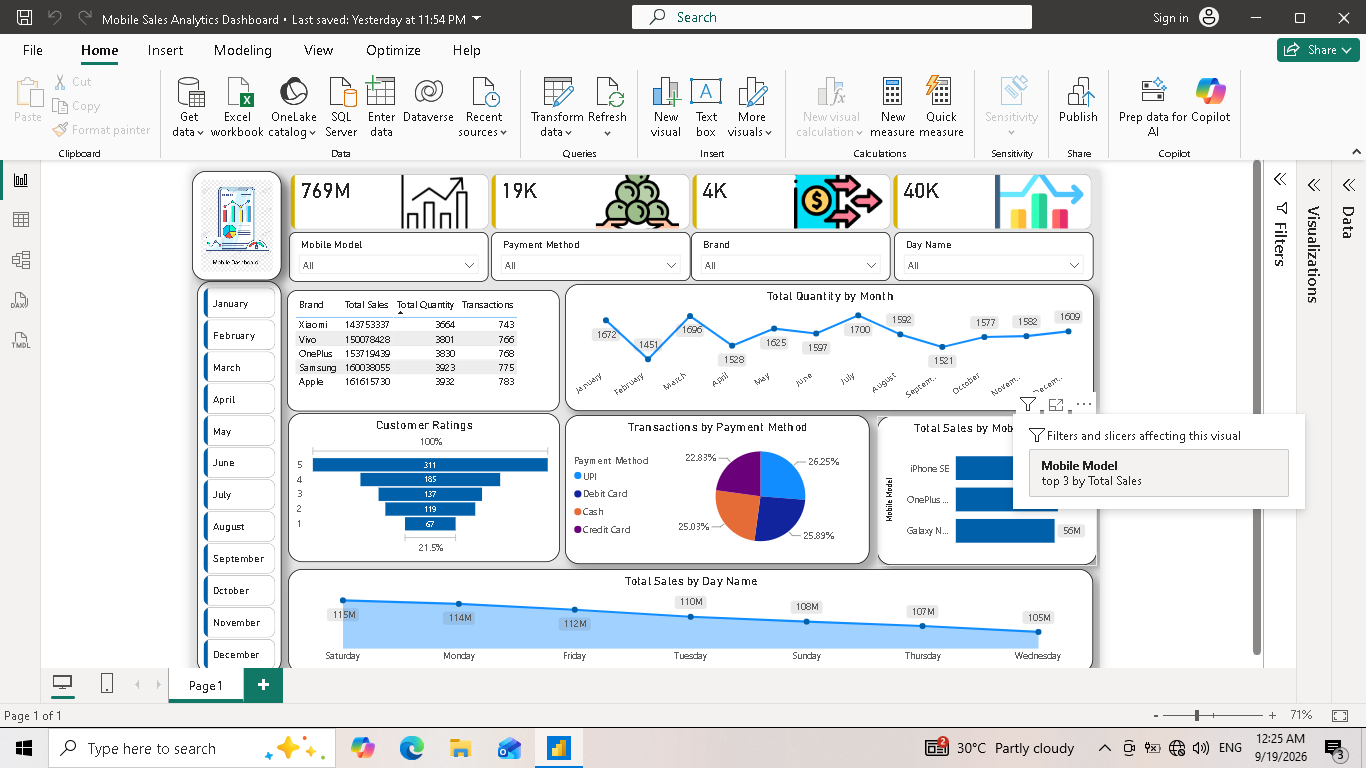

The dashboard page shown, as its layout file describes it:
{"tool":"powerbi","page":{"name":"Page 1","canvas":[1280,720],"ordinal":0},"visuals":[{"type":"shape","box":[5.7,7.1,120.5,138.9],"z":1000},{"type":"shape","box":[6.9,156.4,119.4,554.4],"z":2000},{"type":"advancedSlicerVisual","fields":{"Values":["Sales_Data.Date.Variation.Date Hierarchy.Month"]},"box":[11,160.5,111.1,548.9],"z":3000},{"type":"cardVisual","fields":{"Data":["Sales_Data.Total Sales","Sales_Data.Total Quantity","Sales_Data.Transactions","Sales_Data.Average"]},"box":[134,5.6,1140.1,83.7],"z":4000},{"type":"lineChart","fields":{"Category":["Sales_Data.Date.Variation.Date Hierarchy.Month","Sales_Data.Date.Variation.Date Hierarchy.Day"],"Y":["Sales_Data.Total Quantity"]},"box":[525.9,160.8,744.8,178.7],"z":5000},{"type":"clusteredBarChart","fields":{"Category":["Sales_Data.Mobile Model"],"Y":["Sales_Data.Total Sales"]},"box":[964.3,347.1,310,210],"z":6000},{"type":"pieChart","fields":{"Category":["Sales_Data.Payment Method"],"Y":["Sales_Data.Transactions"]},"box":[525.7,345.7,428.6,210],"z":7000},{"type":"funnel","title":"Customer Ratings","fields":{"Category":["Sales_Data.Customer Ratings"],"Y":["CountNonNull(Sales_Data.Customer Ratings)"]},"box":[135.7,342.9,382.9,210],"z":8000},{"type":"areaChart","fields":{"Category":["Sales_Data.Day Name"],"Y":["Sales_Data.Total Sales"]},"box":[135.7,561.4,1134.3,147.1],"z":9000},{"type":"tableEx","fields":{"Values":["Sales_Data.Brand","Sales_Data.Total Sales","Sales_Data.Total Quantity","Sales_Data.Transactions"]},"box":[134.3,168.6,384.3,171.4],"z":10000},{"type":"slicer","fields":{"Values":["Sales_Data.Mobile Model"]},"box":[136.2,87.1,281.4,70.3],"z":11000},{"type":"slicer","fields":{"Values":["Sales_Data.Payment Method"]},"box":[421,87.1,281.4,69.2],"z":12000},{"type":"slicer","fields":{"Values":["Sales_Data.Brand"]},"box":[703.5,87.1,281.4,69.2],"z":13000},{"type":"image","box":[0,1.4,125.7,154.3],"z":14000},{"type":"slicer","fields":{"Values":["Sales_Data.Day Name"]},"box":[988.2,87.1,281.4,69.2],"z":15000}]}

Visuals, with their boxes on the page's 1280x720 design canvas (x1, y1, x2, y2). These are canvas units, not pixel positions in the 1366x768 screenshot, which may show the page scaled, cropped or inside an application window:
shape: [6, 7, 126, 146]
shape: [7, 156, 126, 711]
advancedSlicerVisual - Sales_Data.Date.Variation.Date Hierarchy.Month: [11, 160, 122, 709]
cardVisual - Sales_Data.Total Sales x Sales_Data.Total Quantity: [134, 6, 1274, 89]
lineChart - Sales_Data.Date.Variation.Date Hierarchy.Month x Sales_Data.Date.Variation.Date Hierarchy.Day: [526, 161, 1271, 340]
clusteredBarChart - Sales_Data.Mobile Model x Sales_Data.Total Sales: [964, 347, 1274, 557]
pieChart - Sales_Data.Payment Method x Sales_Data.Transactions: [526, 346, 954, 556]
"Customer Ratings" funnel: [136, 343, 519, 553]
areaChart - Sales_Data.Day Name x Sales_Data.Total Sales: [136, 561, 1270, 708]
tableEx - Sales_Data.Brand x Sales_Data.Total Sales: [134, 169, 519, 340]
slicer - Sales_Data.Mobile Model: [136, 87, 418, 157]
slicer - Sales_Data.Payment Method: [421, 87, 702, 156]
slicer - Sales_Data.Brand: [704, 87, 985, 156]
image: [0, 1, 126, 156]
slicer - Sales_Data.Day Name: [988, 87, 1270, 156]
